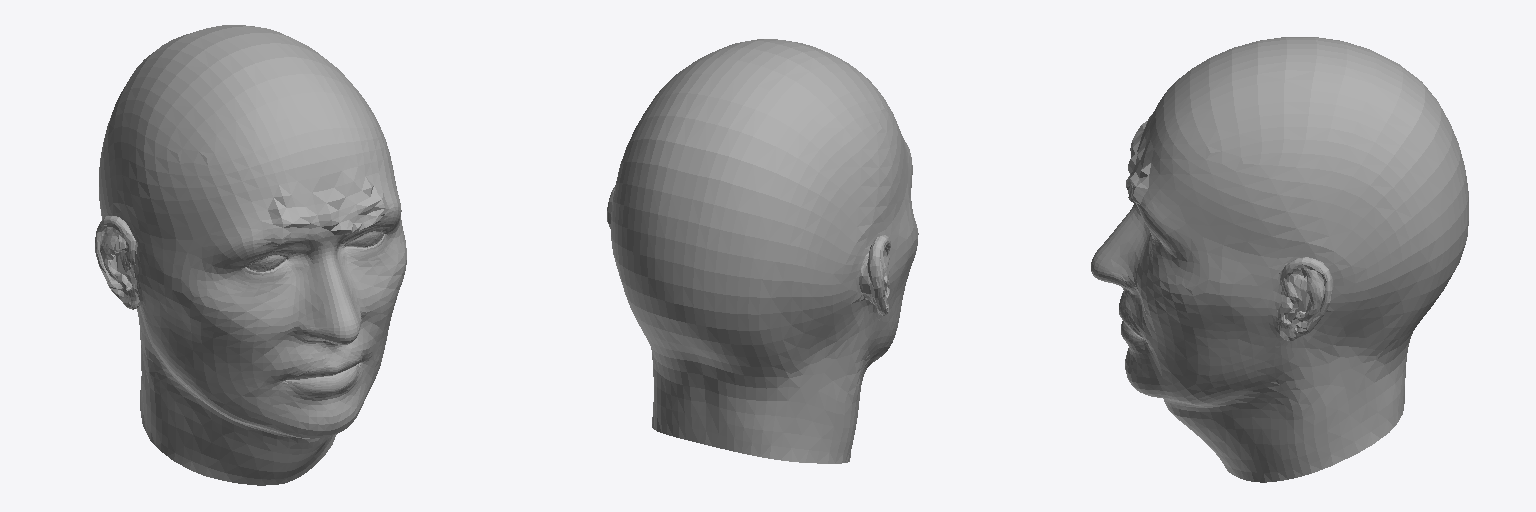
The model's file is White Girl Face2.obj.
3 renders of one model, left to right at view 1: azimuth 30°, elevation 25°; view 2: azimuth 150°, elevation 25°; view 3: azimuth 270°, elevation 25°, orthographic.
Visible parts, largest first — view 1: HeadHires; view 2: HeadHires; view 3: HeadHires.
Part boxes in pixels (left/top/right/bottom): HeadHires: left=95, top=25, right=406, bottom=485; HeadHires: left=607, top=39, right=918, bottom=463; HeadHires: left=1091, top=37, right=1468, bottom=482.
Size of the model in its own units: 196 by 283 by 235.